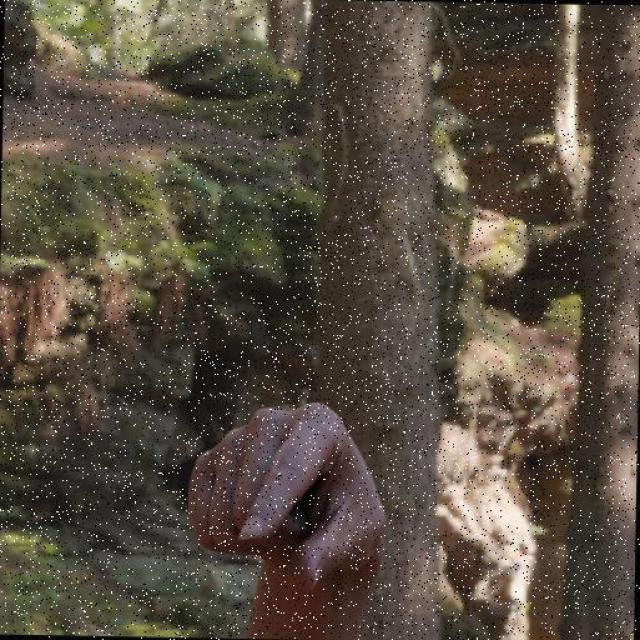Q: (182, 392, 396, 604)
